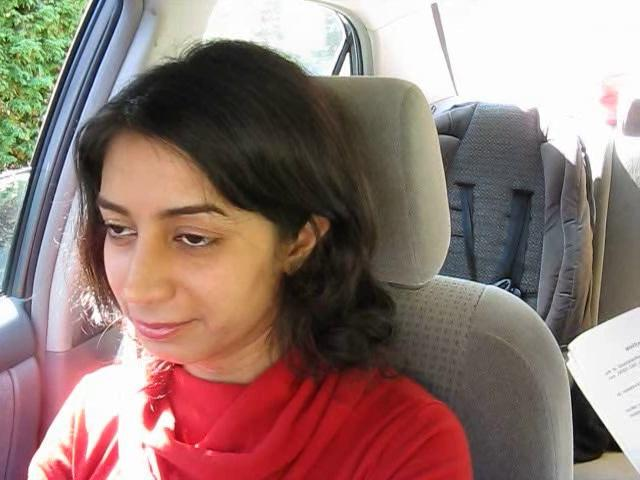close_eyeL: (94, 206, 147, 250)
close_eyeR: (160, 217, 235, 262)
no_yawn: (111, 299, 212, 355)
